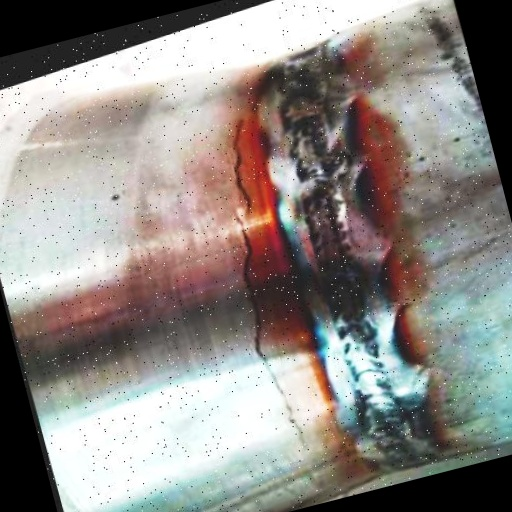crack: (168, 110, 334, 460)
